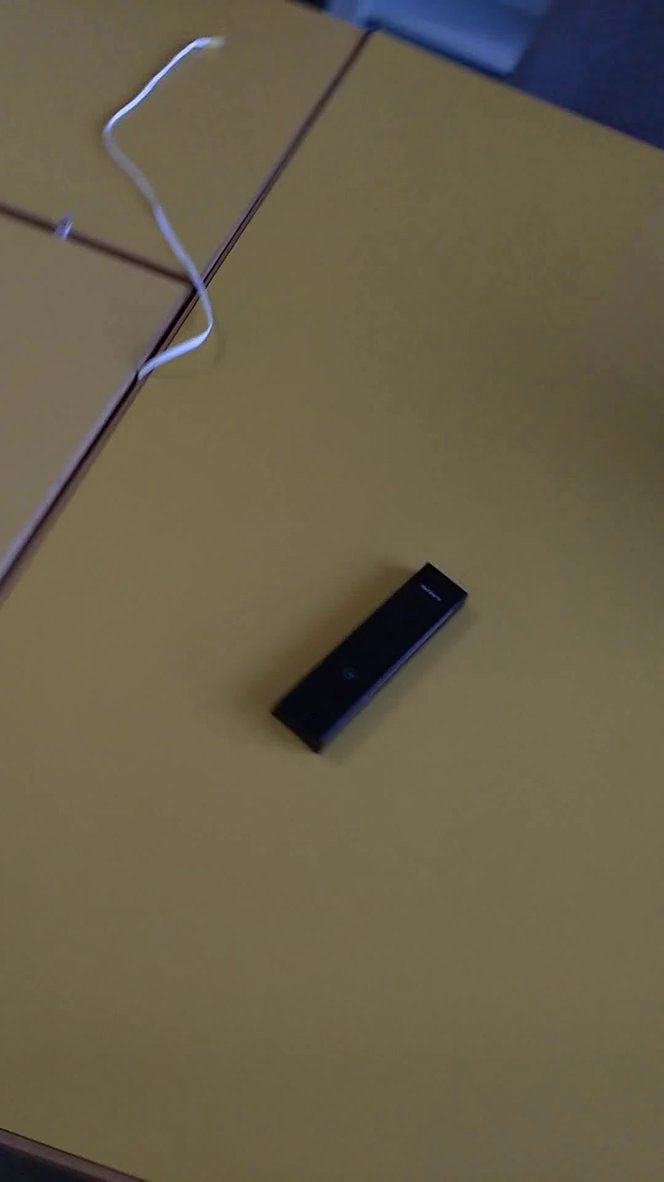remote: (264, 552, 484, 763)
